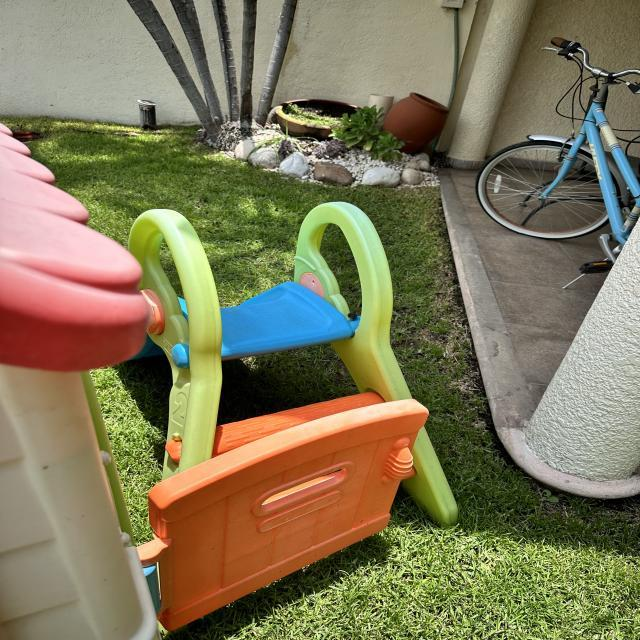hidden camera: (347, 312, 355, 319)
